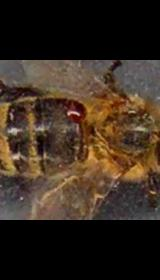varroa_mite: (59, 99, 92, 125)
